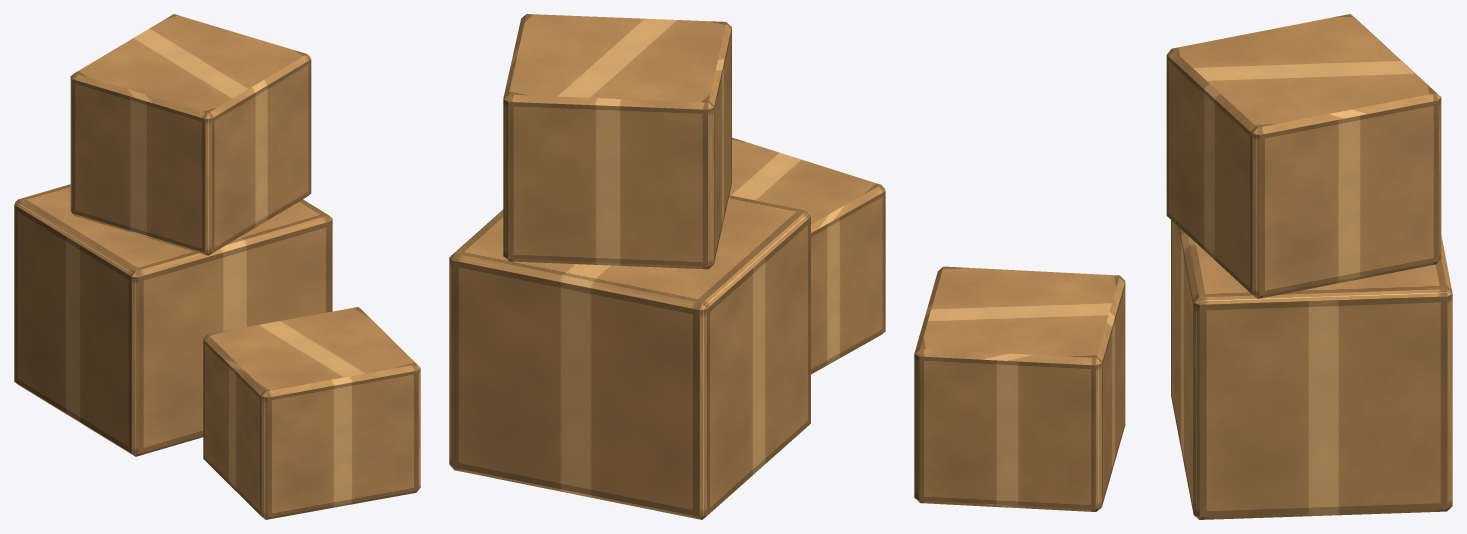
Rendered from Prop_Boxes_Out.fbx.
The picture shows the model from 3 angles, left to right: view 1: azimuth 30°, elevation 25°; view 2: azimuth 150°, elevation 25°; view 3: azimuth 270°, elevation 25°; orthographic projection. The views are drawn at different scales.
Parts seen in each view (by area): view 1: Prop_Boxes_Out; view 2: Prop_Boxes_Out; view 3: Prop_Boxes_Out.
Part boxes in pixels (<box>): Prop_Boxes_Out: <box>14,14,420,519</box>; Prop_Boxes_Out: <box>449,14,885,519</box>; Prop_Boxes_Out: <box>914,14,1452,519</box>.
Size of the model in its own units: 0.6673 by 0.92 by 1.14.
Materials: 1 (1 with a texture image).
